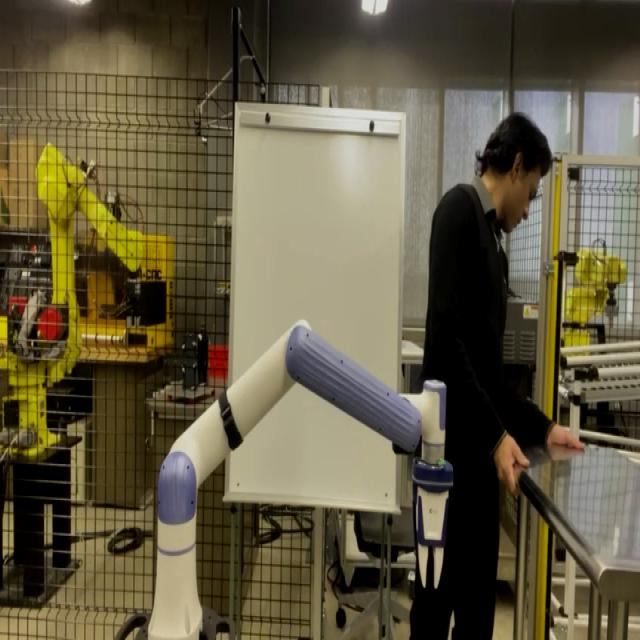robot: (114, 318, 453, 638)
